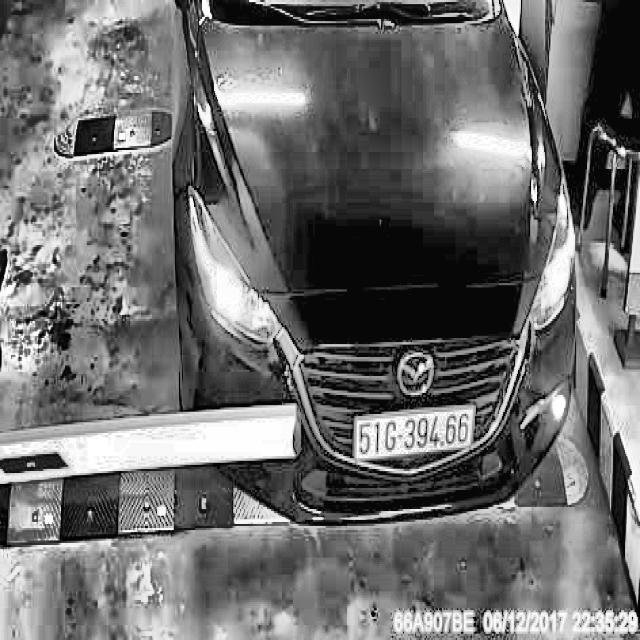plate: (349, 402, 478, 468)
